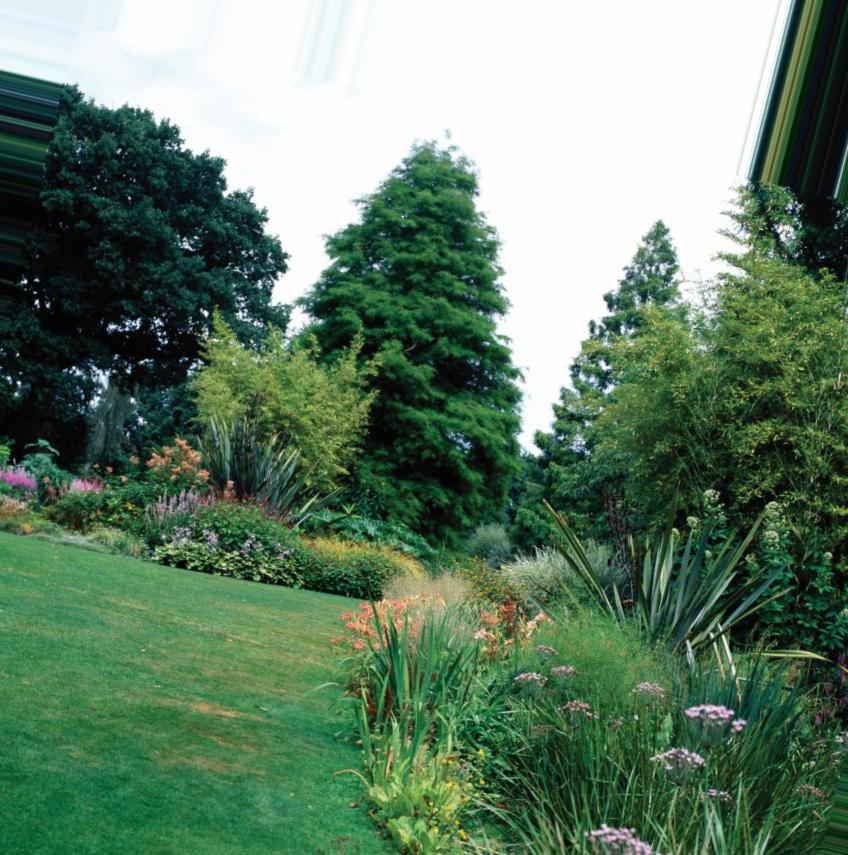patch: (291, 623, 332, 664), (203, 697, 245, 726), (199, 756, 224, 776)
